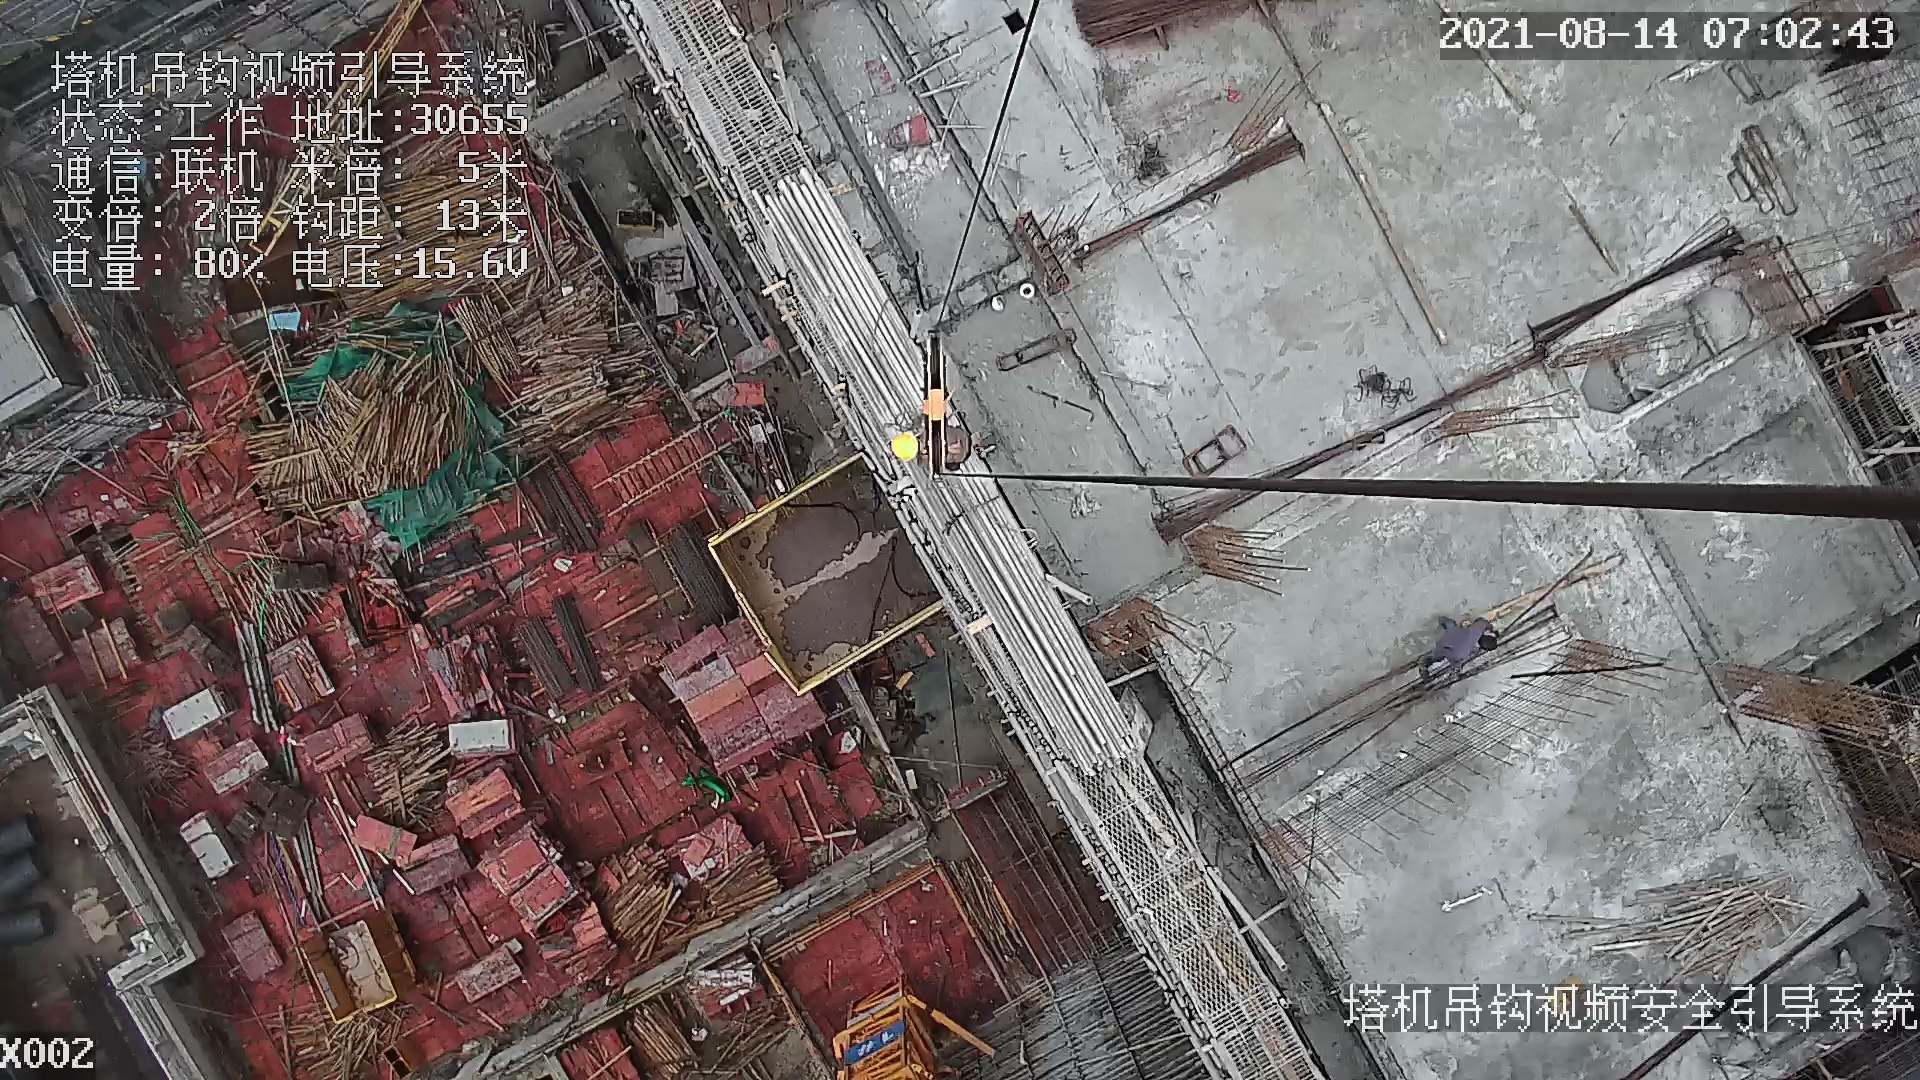helmet: (894, 430, 919, 462)
hook: (913, 333, 956, 481)
person: (1415, 613, 1512, 687), (887, 427, 978, 468)
slogan: (842, 1016, 901, 1070)
